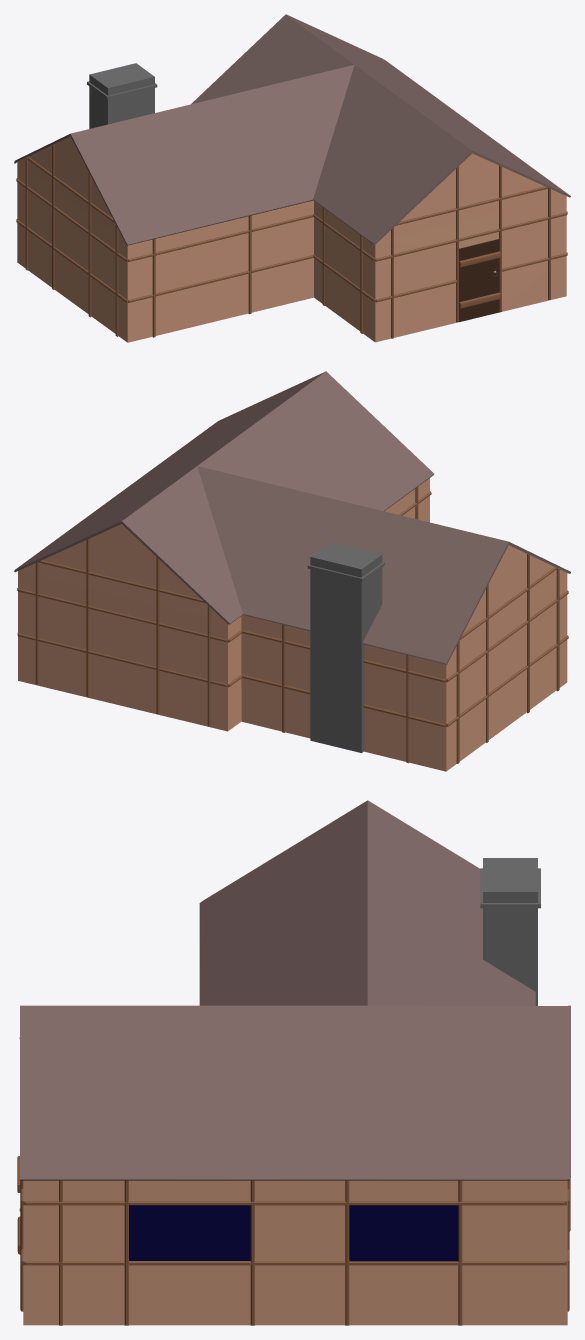
Rendered from VillagerHouseLargeDoubleRoom.fbx.
3 views of the same model, one above another, from view 1: azimuth 30°, elevation 25°; view 2: azimuth 150°, elevation 25°; view 3: azimuth 270°, elevation 25° (orthographic). The views are drawn at different scales.
Visible parts, largest first — view 1: polySurface21, Chimney, Door2, HorizontalWoodPanel8, HorizontalWoodPanel33, HorizontalWoodPanel32, VerticalWoodPanel45, HorizontalWoodPanel1, VerticalWoodPanel6, HorizontalWoodPanel28, HorizontalWoodPanel30, VerticalWoodPanel46 (+2 smaller); view 2: polySurface21, Chimney, HorizontalWoodPanel3, HorizontalWoodPanel4, VerticalWoodPanel9, VerticalWoodPanel8, HorizontalWoodPanel2, HorizontalWoodPanel34, HorizontalWoodPanel35, HorizontalWoodPanel30, HorizontalWoodPanel28; view 3: polySurface21, Window9, Chimney, Window8, HorizontalWoodPanel6, HorizontalWoodPanel5, VerticalWoodPanel12, VerticalWoodPanel13, VerticalWoodPanel14, VerticalWoodPanel15.
Part boxes in pixels (x1,y1,x2,y2): polySurface21: [14, 14, 570, 342]; Chimney: [87, 63, 157, 128]; Door2: [459, 239, 500, 322]; HorizontalWoodPanel8: [375, 212, 566, 261]; HorizontalWoodPanel33: [128, 255, 313, 302]; HorizontalWoodPanel32: [128, 214, 313, 261]; VerticalWoodPanel45: [88, 172, 91, 317]; HorizontalWoodPanel1: [395, 186, 548, 225]; VerticalWoodPanel6: [456, 166, 458, 322]; HorizontalWoodPanel28: [16, 178, 127, 261]; HorizontalWoodPanel30: [16, 219, 127, 302]; VerticalWoodPanel46: [115, 224, 118, 336]; polySurface21: [14, 371, 570, 771]; Chimney: [307, 542, 384, 752]; HorizontalWoodPanel3: [18, 588, 228, 642]; HorizontalWoodPanel4: [18, 633, 228, 687]; VerticalWoodPanel9: [86, 539, 89, 697]; VerticalWoodPanel8: [156, 557, 159, 714]; HorizontalWoodPanel2: [38, 560, 205, 603]; HorizontalWoodPanel34: [242, 630, 445, 682]; HorizontalWoodPanel35: [242, 675, 445, 727]; HorizontalWoodPanel30: [446, 635, 568, 726]; HorizontalWoodPanel28: [446, 590, 568, 682]; polySurface21: [19, 800, 570, 1325]; Window9: [129, 1205, 250, 1260]; Chimney: [480, 858, 540, 1005]; Window8: [349, 1205, 458, 1261]; HorizontalWoodPanel6: [23, 1201, 566, 1205]; HorizontalWoodPanel5: [23, 1261, 566, 1265]; VerticalWoodPanel12: [124, 1180, 128, 1325]; VerticalWoodPanel13: [345, 1180, 349, 1325]; VerticalWoodPanel14: [458, 1180, 462, 1325]; VerticalWoodPanel15: [250, 1180, 254, 1325].
Size of the model in its own units: 12.02 by 5.1 by 10.24.
